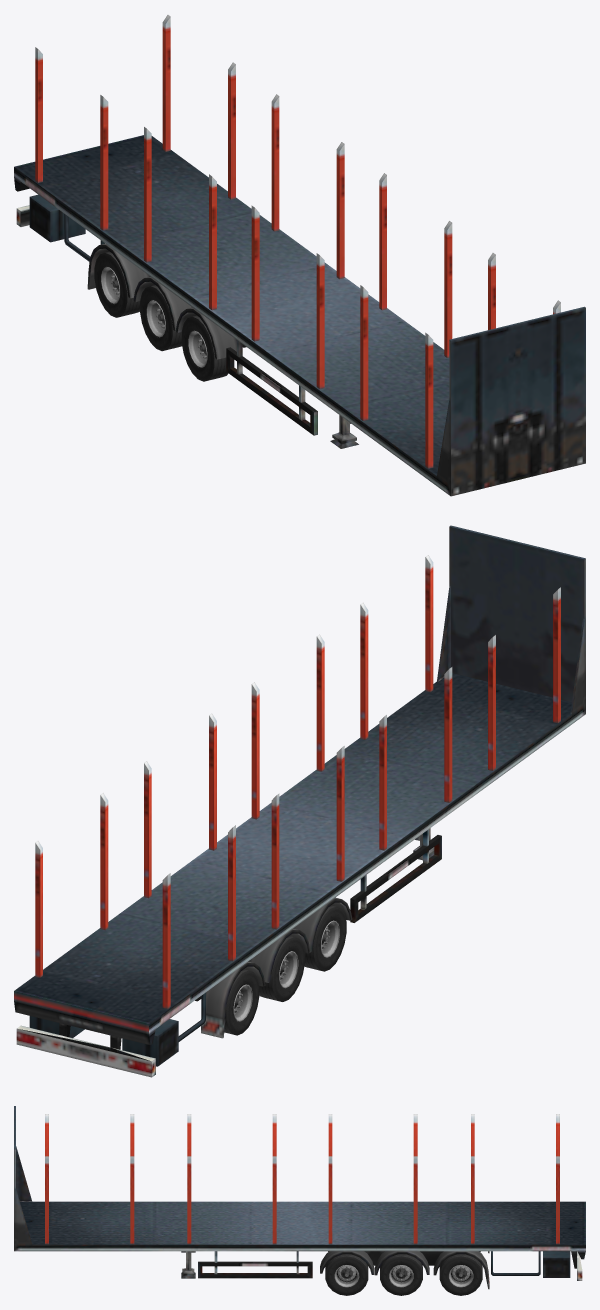
Rendered from Woodsnew3.fbx.
The picture shows the model from 3 angles, top to bottom: view 1: azimuth 30°, elevation 25°; view 2: azimuth 150°, elevation 25°; view 3: azimuth 270°, elevation 25°; orthographic projection. The views are drawn at different scales.
Parts seen in each view (by area): view 1: polySurface33, WheelRF, WheelRR, WheelRM; view 2: polySurface33, WheelRM, WheelRF, WheelRR; view 3: polySurface33, WheelLR, WheelLF, WheelLM.
Boxes of the visible parts, x1,y1,x2,y2 form: polySurface33: (14,15,585,496); WheelRF: (181,315,228,381); WheelRR: (94,251,139,317); WheelRM: (140,285,182,351); polySurface33: (14,525,585,1077); WheelRM: (259,936,304,1001); WheelRF: (304,905,346,971); WheelRR: (224,969,259,1035); polySurface33: (14,1106,585,1289); WheelLR: (439,1254,482,1295); WheelLF: (325,1254,368,1295); WheelLM: (380,1254,422,1295).
Size of the model in its own units: 572 by 911 by 3204.
